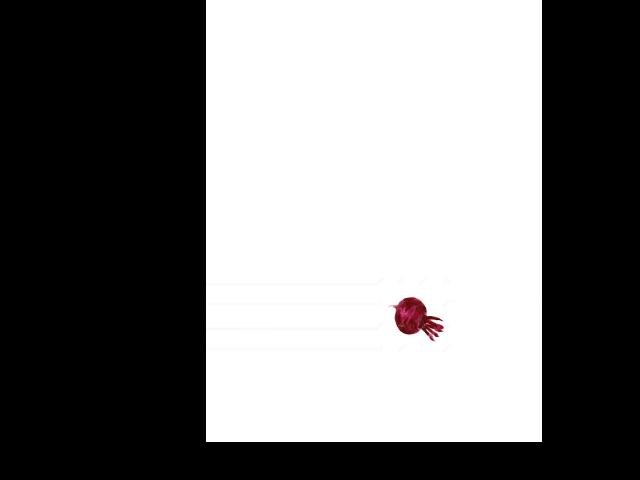beet: (387, 296, 443, 341)
